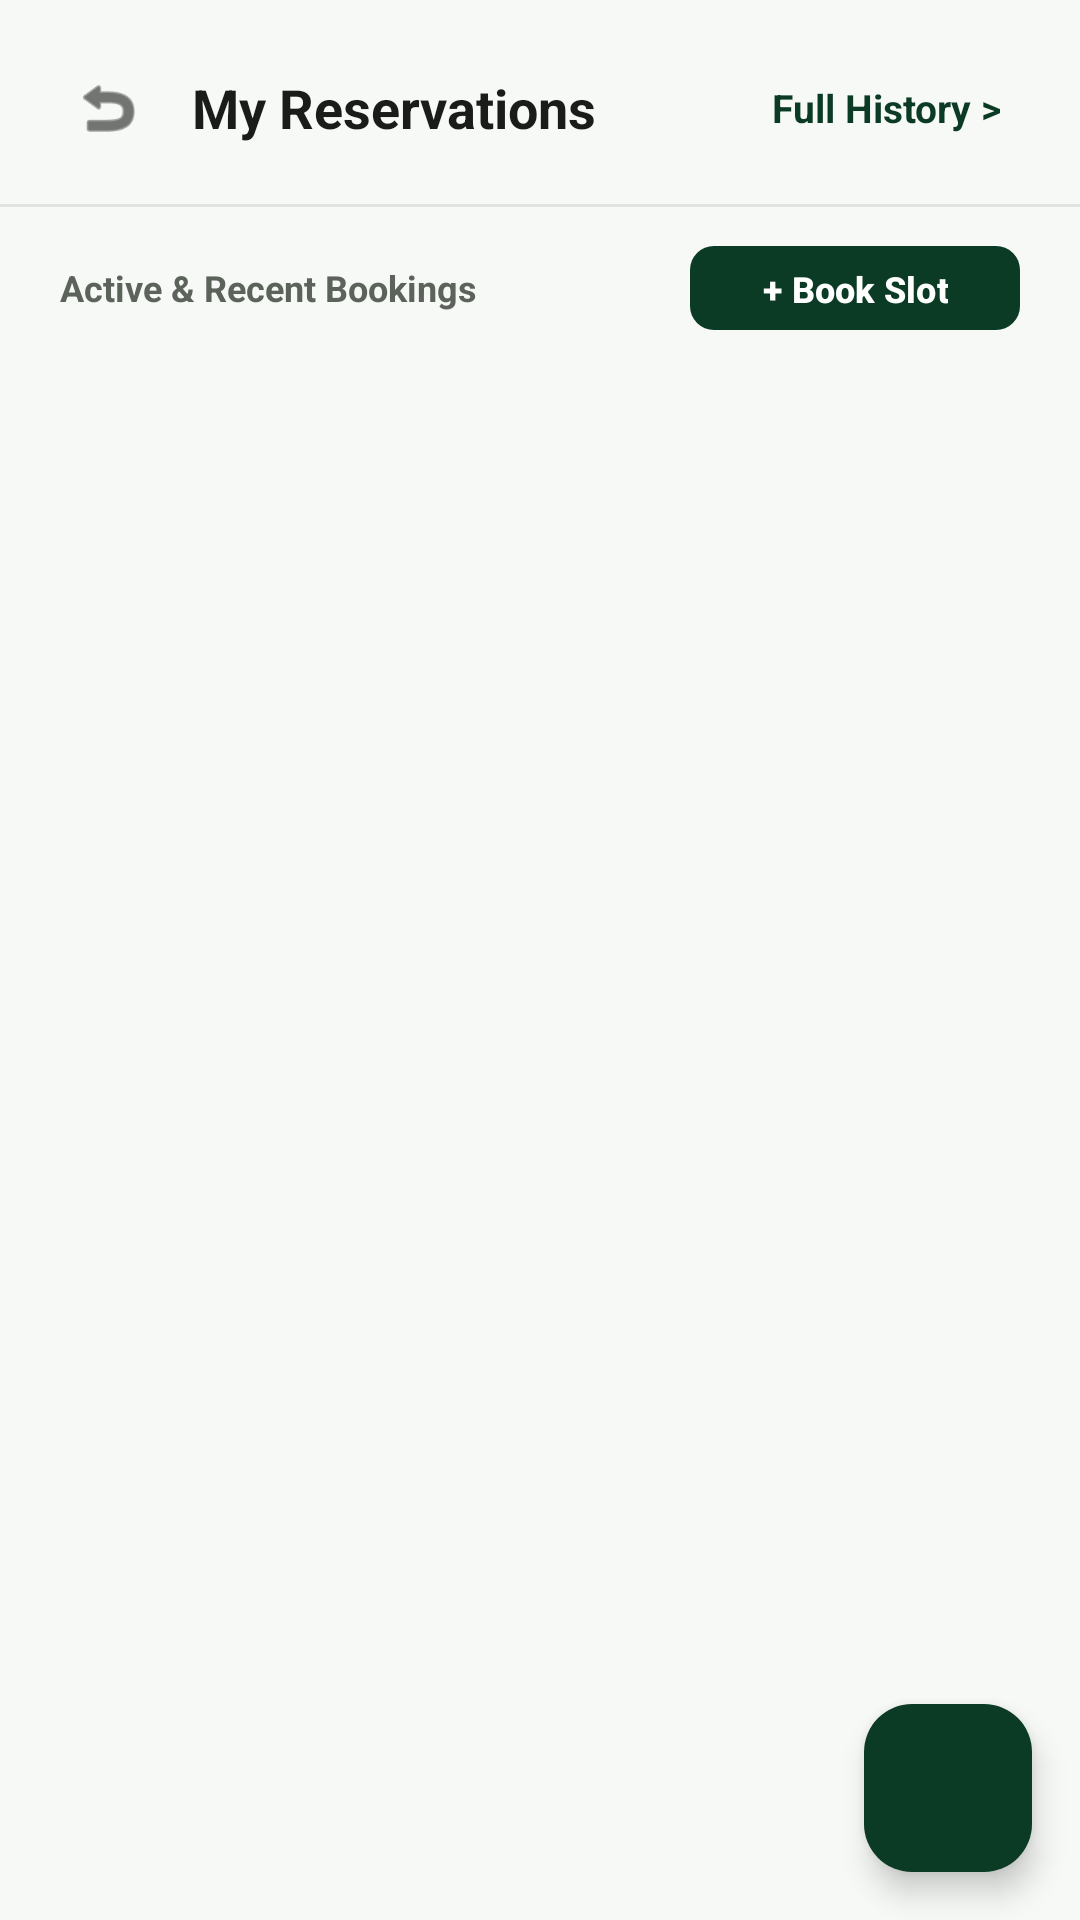

Point at icon controls on the screen. Image size 1080 x 1920, points as [x,y].
Back: [109,108]
